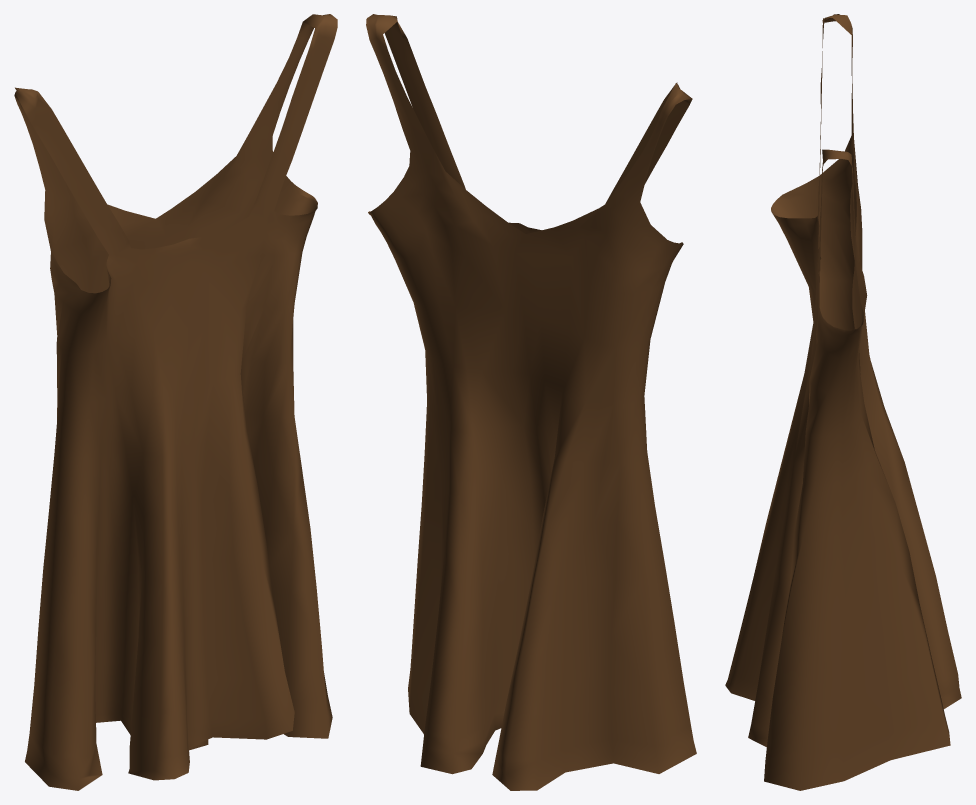
The model's file is Dress09.fbx.
3 views of the same model, side by side, from view 1: azimuth 30°, elevation 25°; view 2: azimuth 150°, elevation 25°; view 3: azimuth 270°, elevation 25° (orthographic). The views are drawn at different scales.
Visible parts, largest first — view 1: Dress09; view 2: Dress09; view 3: Dress09.
Boxes of the visible parts, x1,y1,x2,y2 form: Dress09: [14, 14, 337, 790]; Dress09: [366, 14, 696, 790]; Dress09: [725, 14, 961, 790].
Size of the model in its own units: 39.37 by 81.55 by 27.08.
